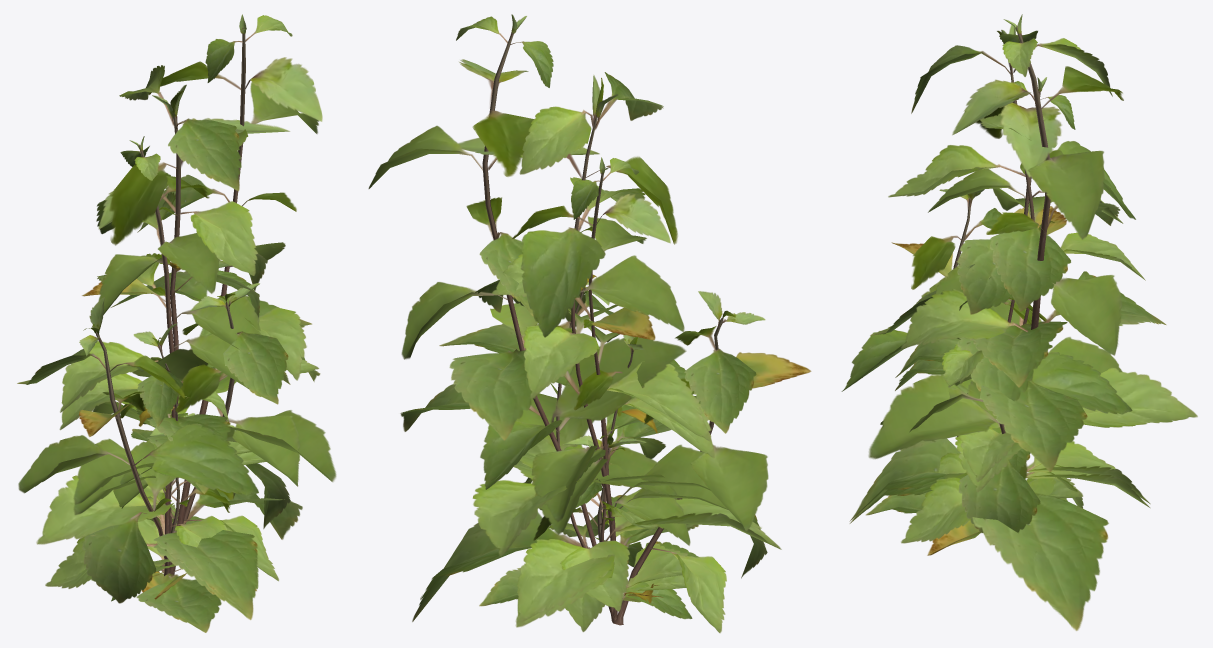
Rendered from shrub_01.glb.
3 renders of one model, left to right at view 1: azimuth 30°, elevation 25°; view 2: azimuth 150°, elevation 25°; view 3: azimuth 270°, elevation 25°, orthographic. The views are drawn at different scales.
Visible parts, largest first — view 1: shrub_01_a_LOD2, shrub_01_b_LOD2, shrub_01_c_LOD2, shrub_01_d_LOD2, shrub_01_e_LOD2, shrub_01_f_LOD2; view 2: shrub_01_a_LOD2, shrub_01_b_LOD2, shrub_01_c_LOD2, shrub_01_d_LOD2, shrub_01_e_LOD2, shrub_01_f_LOD2; view 3: shrub_01_a_LOD2, shrub_01_b_LOD2, shrub_01_d_LOD2, shrub_01_c_LOD2, shrub_01_e_LOD2, shrub_01_f_LOD2.
Part boxes in pixels (<box>): shrub_01_a_LOD2: <box>17,14,336,632</box>; shrub_01_b_LOD2: <box>60,65,311,617</box>; shrub_01_c_LOD2: <box>59,136,299,619</box>; shrub_01_d_LOD2: <box>120,283,319,581</box>; shrub_01_e_LOD2: <box>113,323,235,572</box>; shrub_01_f_LOD2: <box>111,413,233,601</box>; shrub_01_a_LOD2: <box>368,14,811,633</box>; shrub_01_b_LOD2: <box>439,72,711,623</box>; shrub_01_c_LOD2: <box>492,157,727,627</box>; shrub_01_d_LOD2: <box>479,286,688,622</box>; shrub_01_e_LOD2: <box>540,335,690,632</box>; shrub_01_f_LOD2: <box>533,430,692,620</box>; shrub_01_a_LOD2: <box>841,14,1197,630</box>; shrub_01_b_LOD2: <box>849,25,1150,521</box>; shrub_01_d_LOD2: <box>870,253,1132,543</box>; shrub_01_c_LOD2: <box>849,77,1150,523</box>; shrub_01_e_LOD2: <box>931,301,1083,508</box>; shrub_01_f_LOD2: <box>984,410,1067,501</box>.
Bounding box in the file's own units: 0.2308 × 0.3719 × 0.2057.
Materials: 1 (1 with a texture image).
